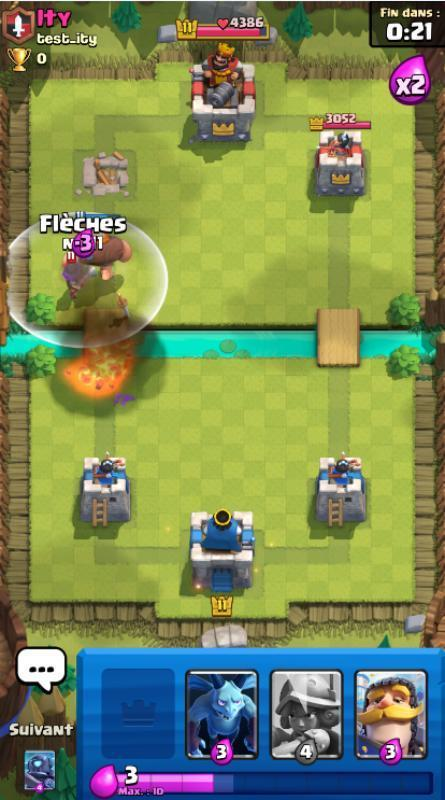enemy_musketeer: (60, 251, 100, 302)
player_giant: (84, 232, 132, 285)
